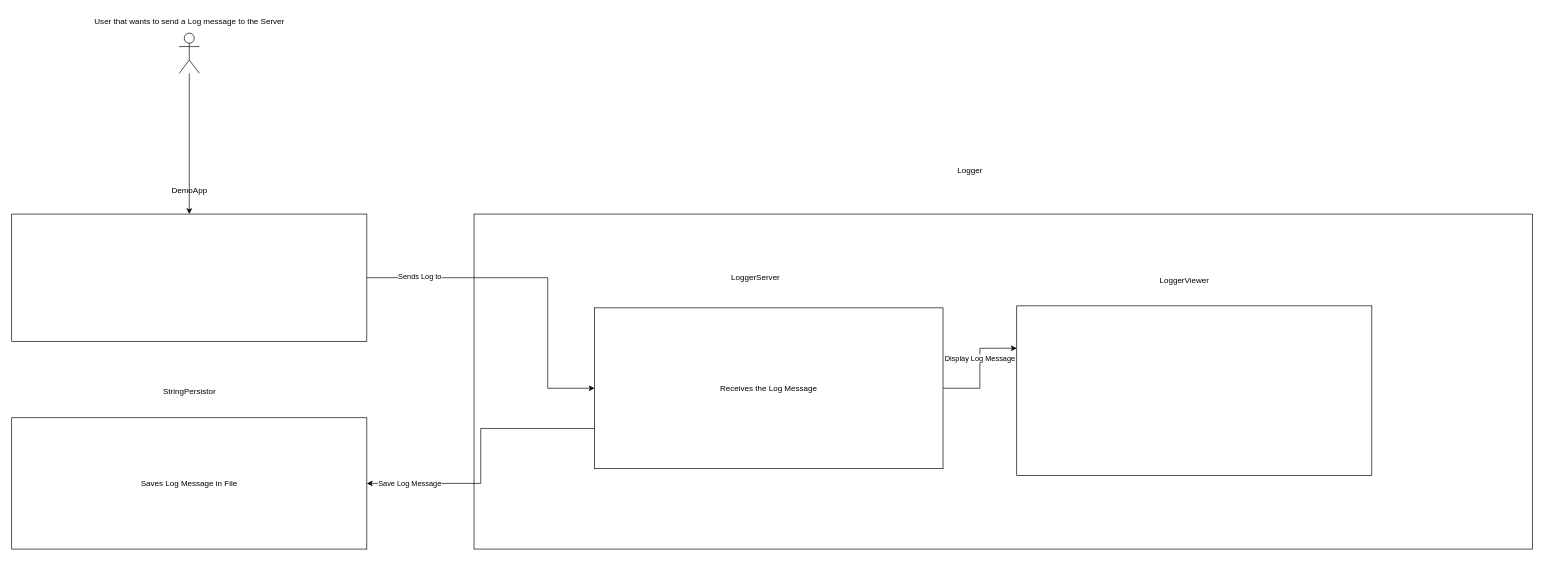
The diagram is 1544 pixels wide and 561 high, and some of its shapes have lost their labels. The shapes that lost their labels are listed below. From the top down, each one's centre as x and y in pixels, then its label:
the point at 189,277: Allows user to type Log message
the point at 1194,390: Displays Logging message
